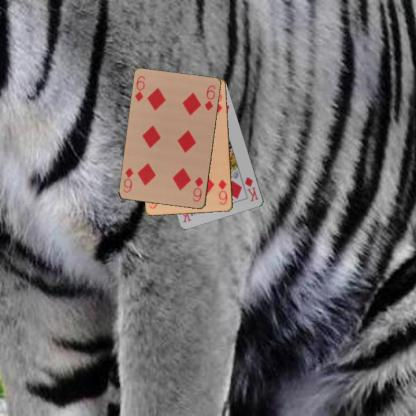6d: (190, 174, 205, 204), (132, 73, 146, 103), (216, 178, 229, 206)
Kd: (242, 174, 260, 203)
